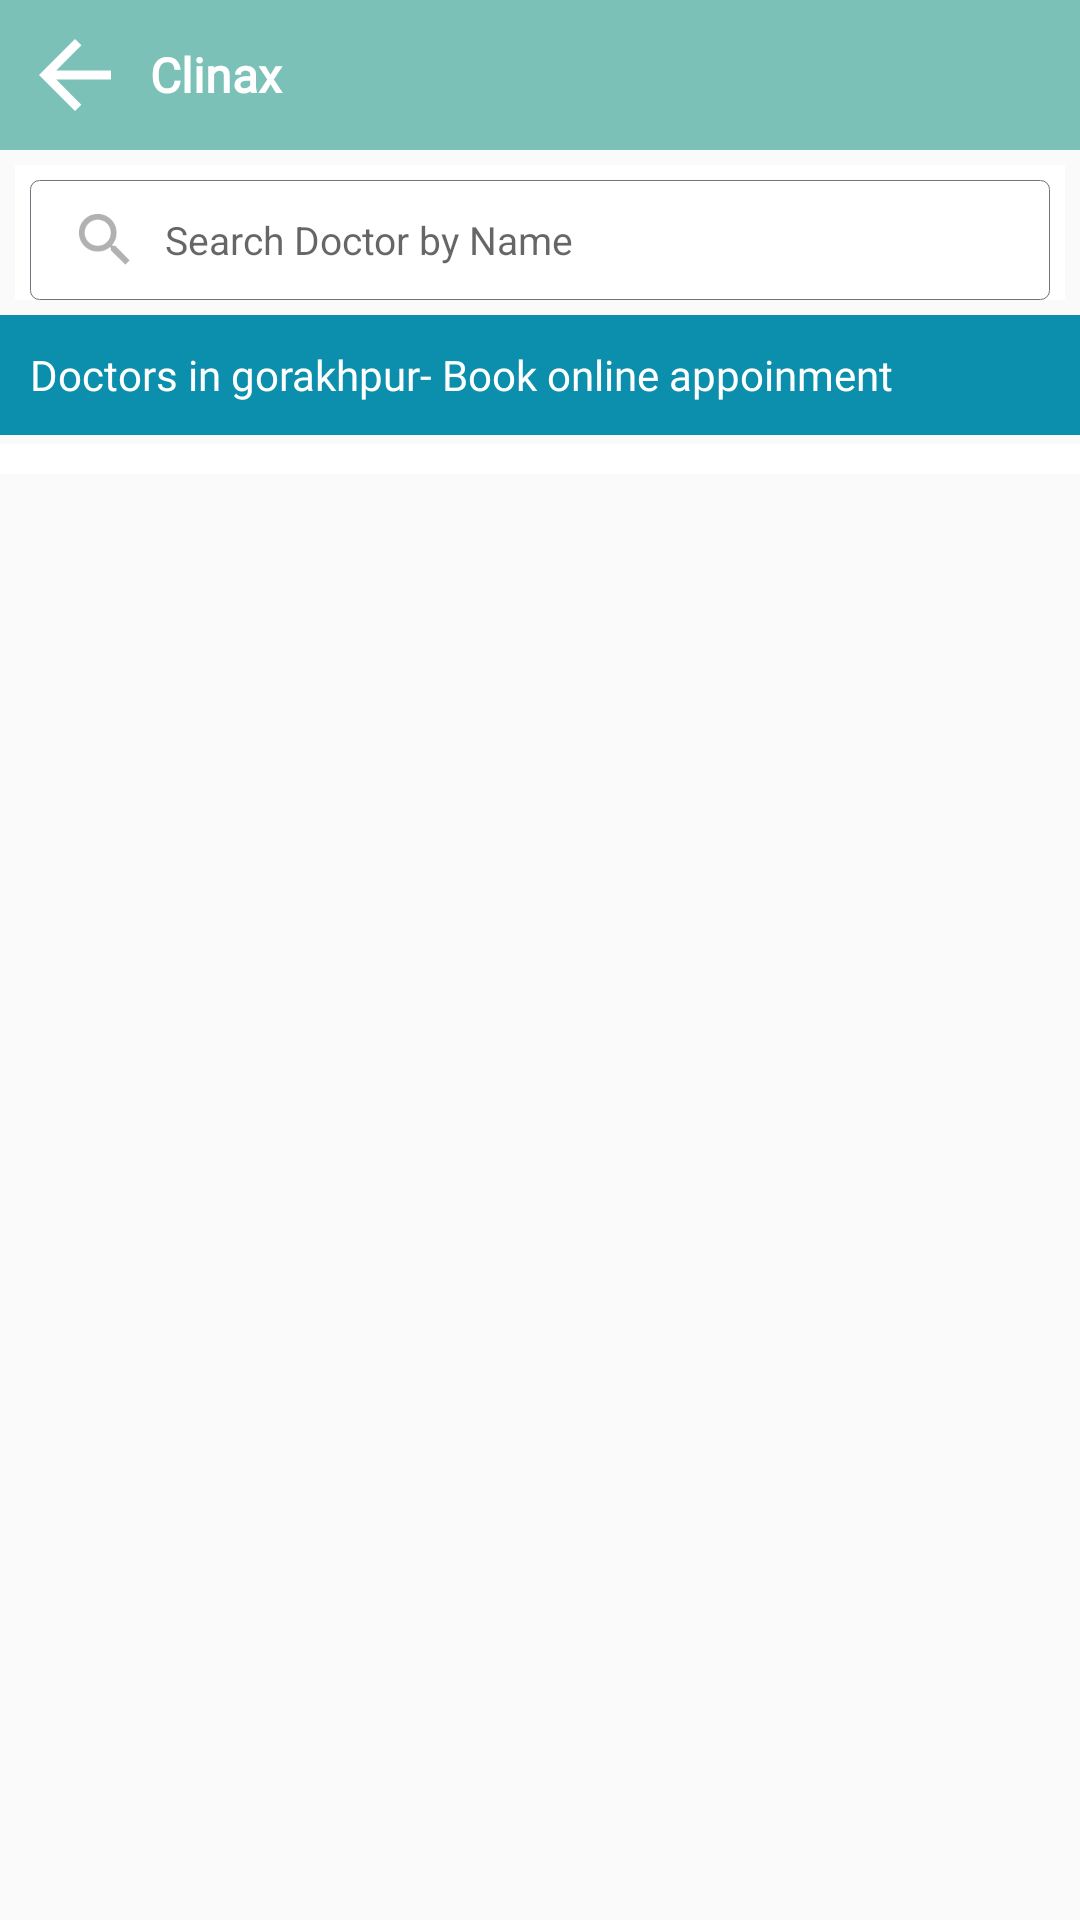

Icons on this 1080x1920 Android screen, each with its box as (x1,y1,x2,y2):
arrow back: (39,39,111,111)
